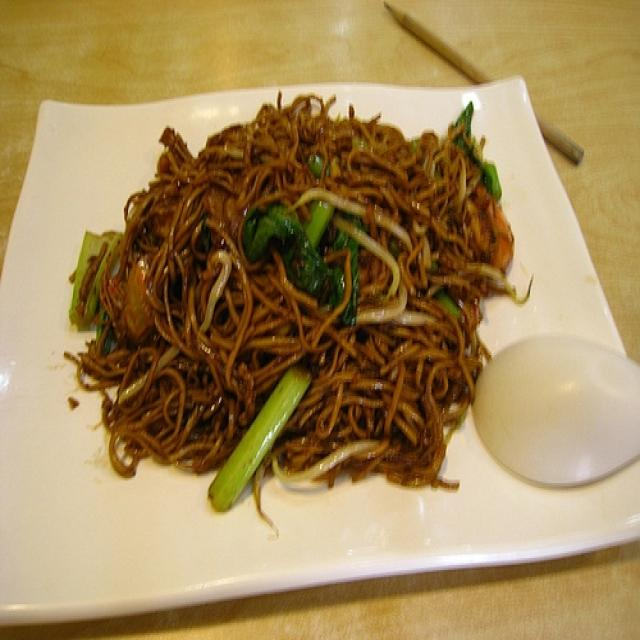面条主食: (32, 66, 634, 588)
